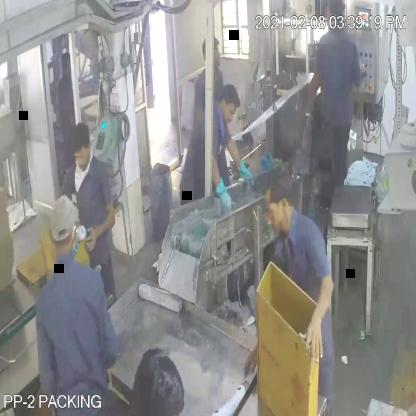no_glove: (298, 266, 335, 367), (81, 197, 120, 249)
